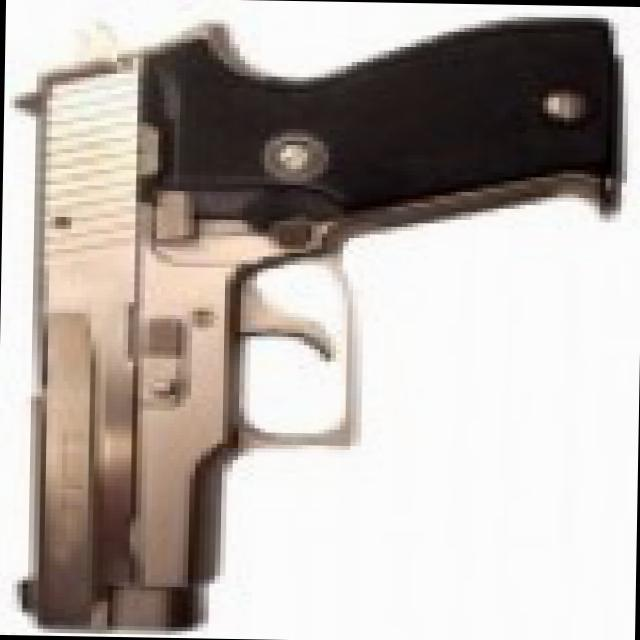handgun: (5, 15, 619, 639)
